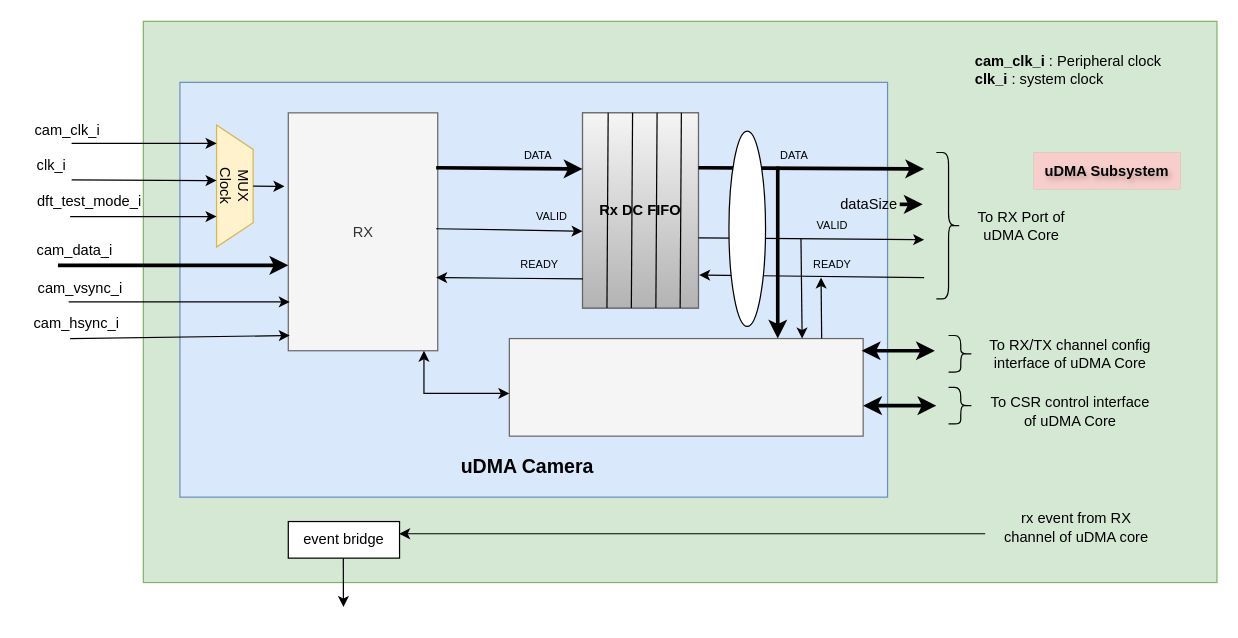
Some shapes in this 1238 by 638 pixel diagram are drawn without their labels. Each missing label, with the centre of its shape:
"sys clk" goes at [747,228].
"uDMA Camera CSR" goes at [685,386].
